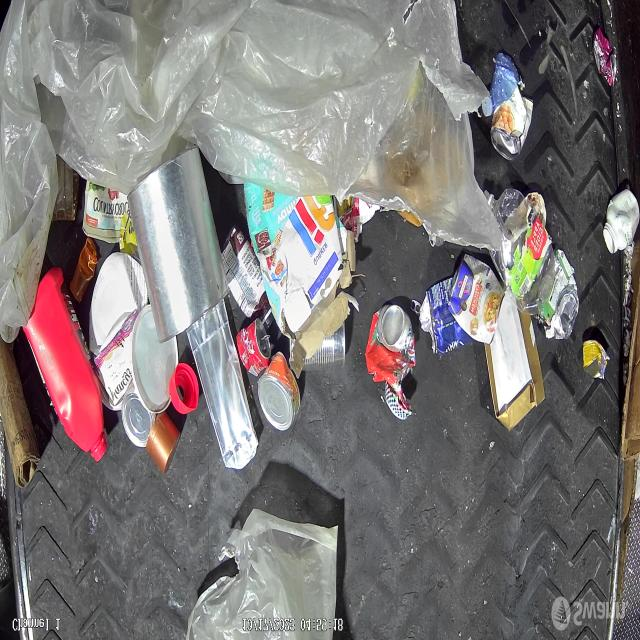can: (368, 300, 422, 416), (447, 250, 506, 347), (536, 245, 579, 343), (256, 350, 300, 432), (489, 83, 534, 162), (289, 321, 346, 374), (235, 316, 272, 376), (592, 27, 617, 89)
non_white_jug: (29, 264, 108, 460)
